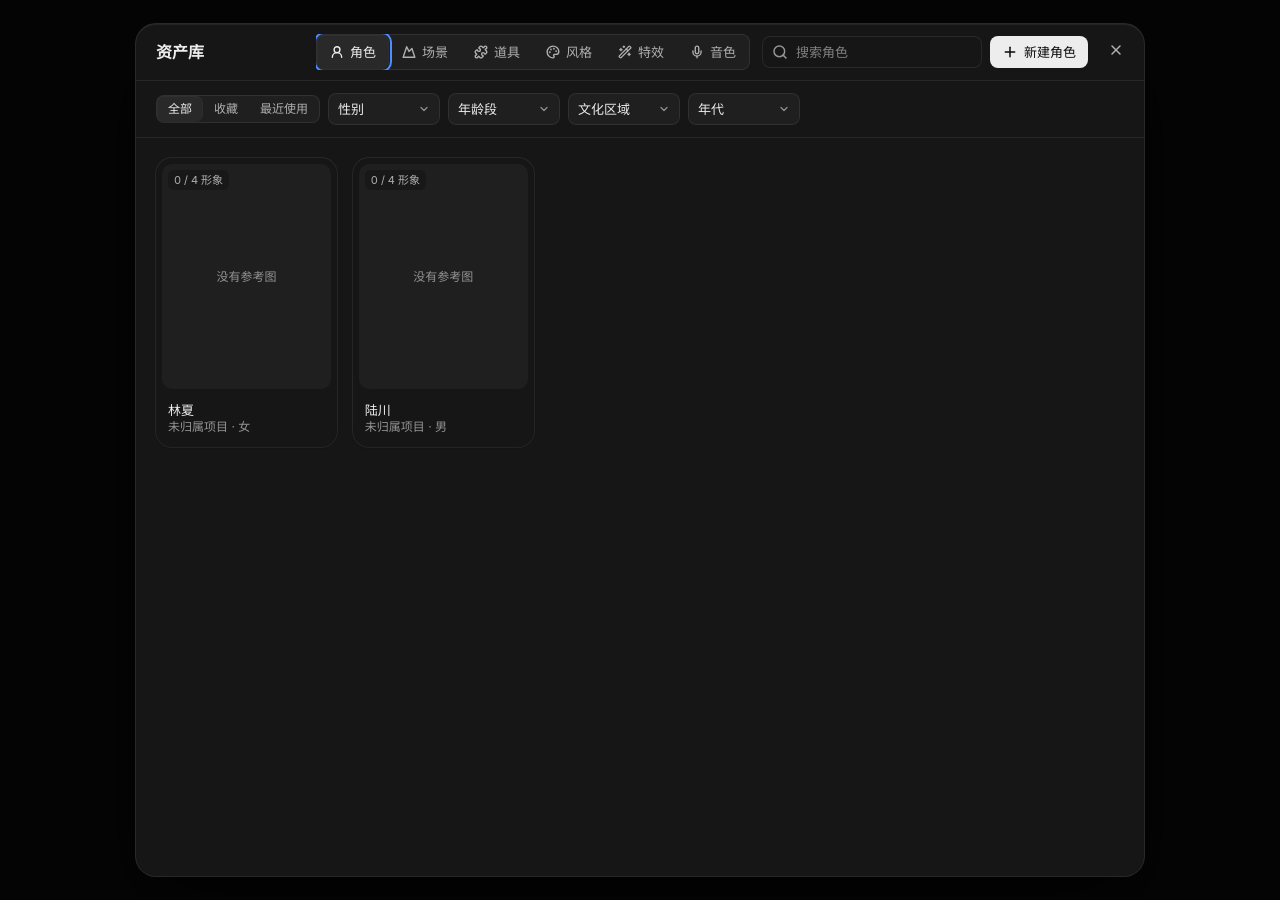
资产库面板的筛选与来源 › 按标签筛选只剩命中的资产，重置后全部回来
The width and height of the screenshot is (1280, 900).
Check: the text "林夏" is shown, box [168,402,194,418]
Click the dropdown labelled "性别": (384, 109) [328,93,440,125]
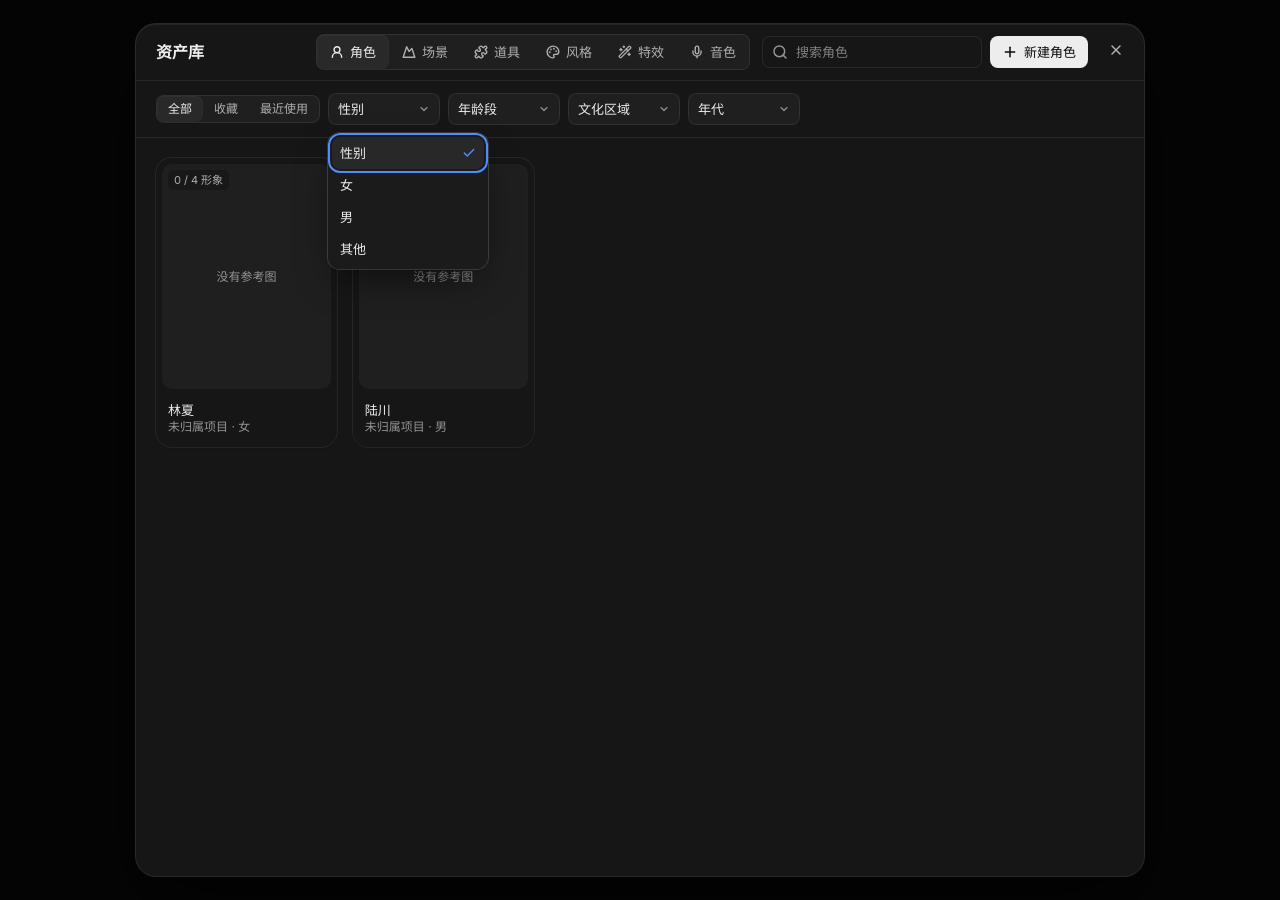
Click the option "女": (346, 185) [340,177,353,193]
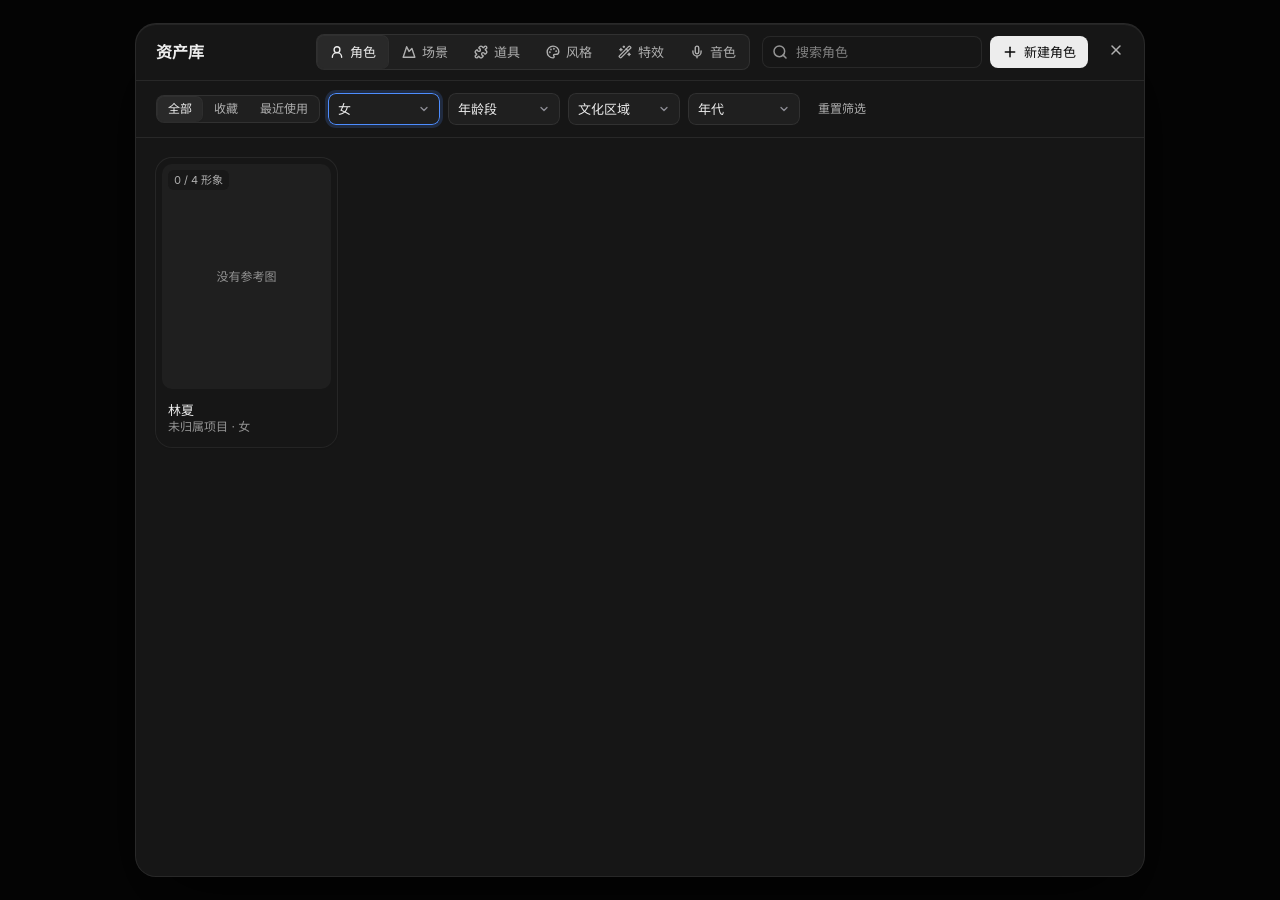
Check: the text "林夏" is shown, box [168,402,194,418]
Check: the button "陆川" is gone
Click the button "重置筛选": (842, 109) [808,95,876,123]
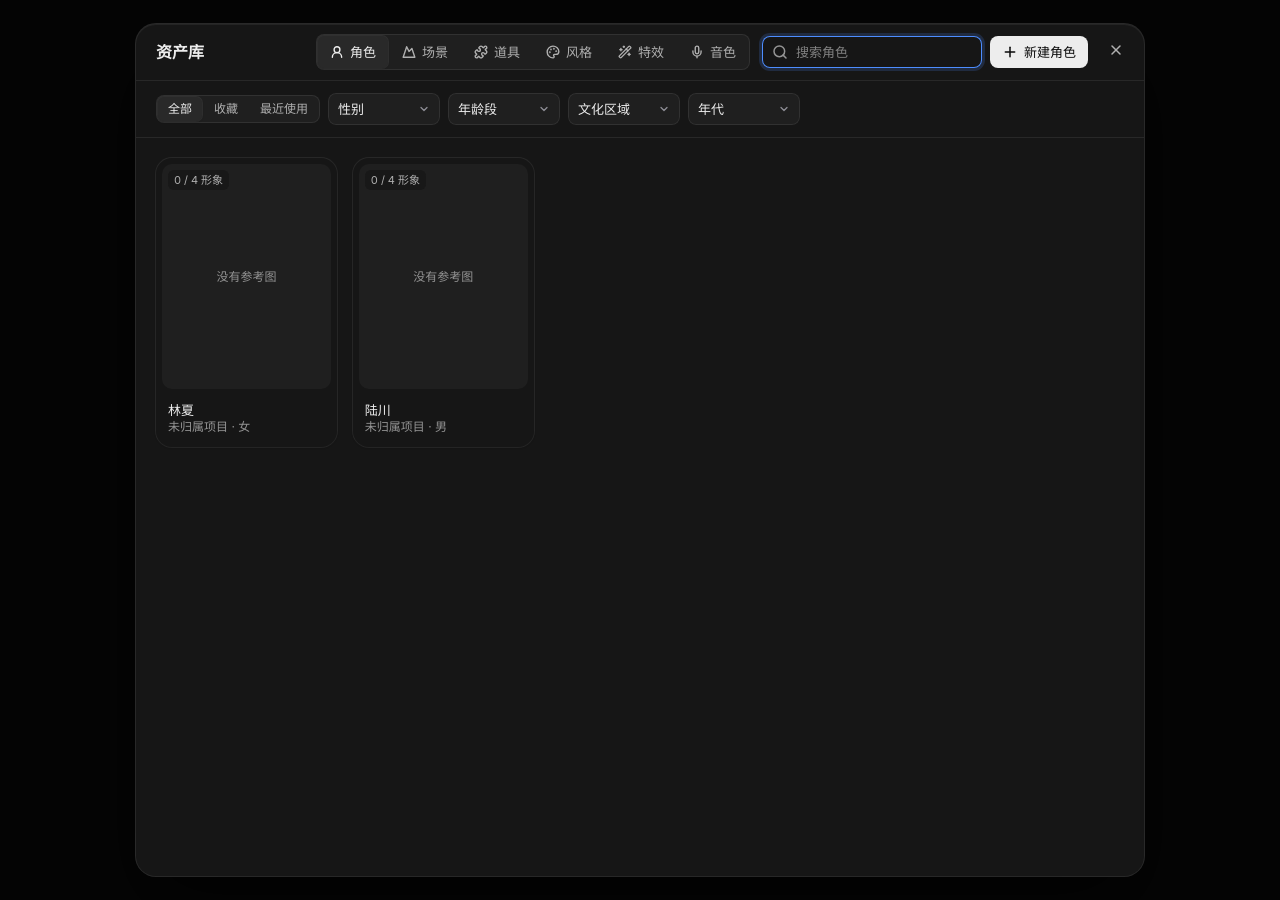
Check: the text "陆川" is shown, box [365,402,391,418]
